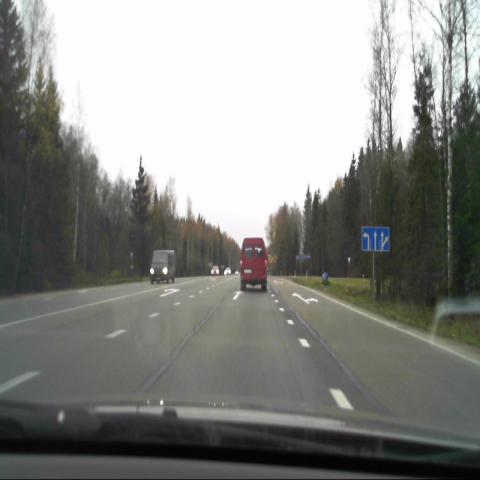5_15_1: (361, 227, 390, 250)
